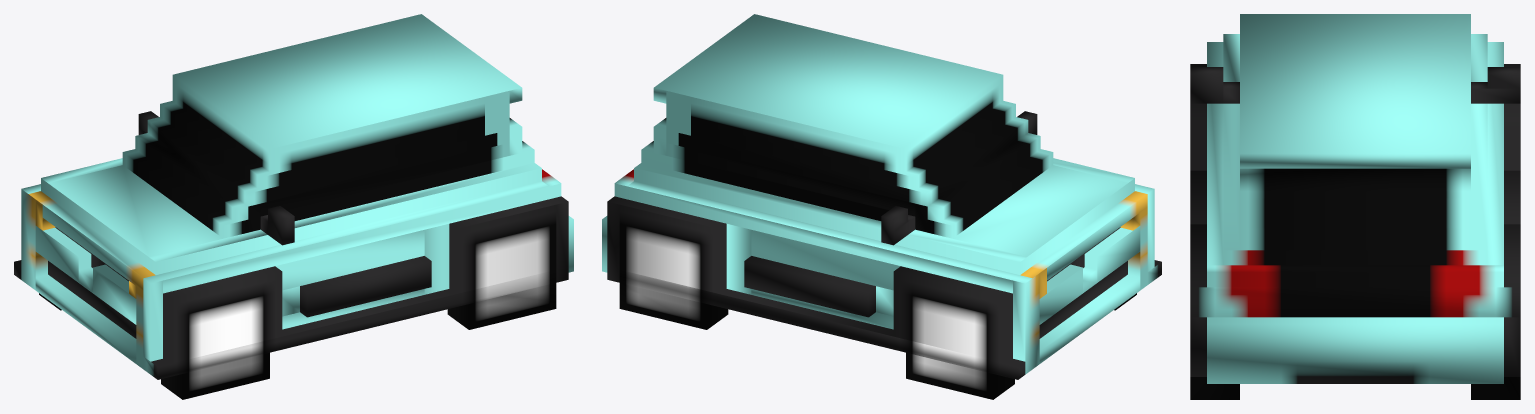
File: city_car_lev3.glb
The picture shows the model from 3 angles, left to right: view 1: azimuth 30°, elevation 25°; view 2: azimuth 150°, elevation 25°; view 3: azimuth 270°, elevation 25°; orthographic projection. The views are drawn at different scales.
Parts seen in each view (by area): view 1: city_car_lev3; view 2: city_car_lev3; view 3: city_car_lev3.
Boxes of the visible parts, bbox=[...] form: city_car_lev3: bbox=[14, 14, 573, 399]; city_car_lev3: bbox=[602, 14, 1161, 399]; city_car_lev3: bbox=[1190, 14, 1520, 399].
Size of the model in its own units: 12.5 by 5.88 by 7.35.
1 material, 1 textured.
